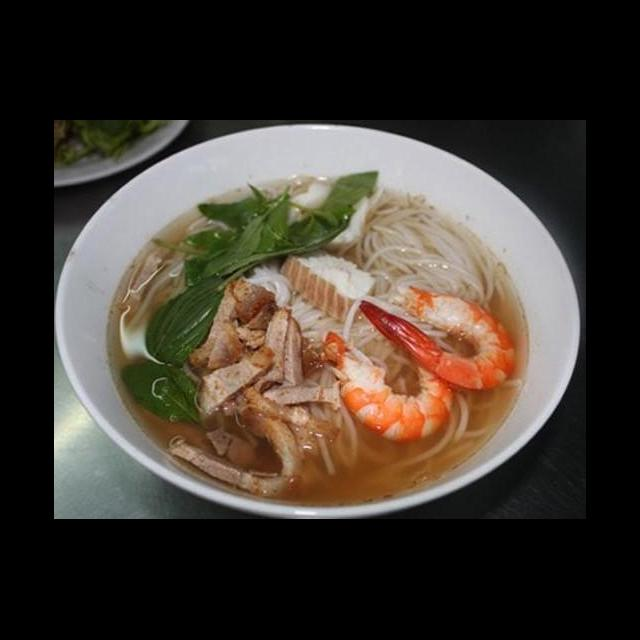bun: (245, 260, 466, 370), (353, 178, 512, 306), (374, 390, 485, 484), (303, 366, 366, 482)
ca: (274, 240, 380, 330), (275, 178, 386, 255)
rau ram: (177, 166, 383, 296)
thit heo quay: (163, 428, 303, 502), (182, 276, 279, 372), (193, 342, 280, 428), (253, 302, 295, 388), (275, 314, 306, 392)
tom: (352, 282, 521, 398), (313, 326, 458, 450)
